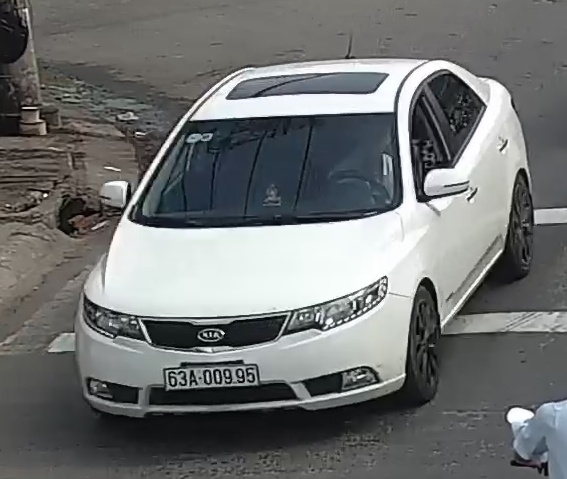vehicle plate: (160, 360, 265, 392)
